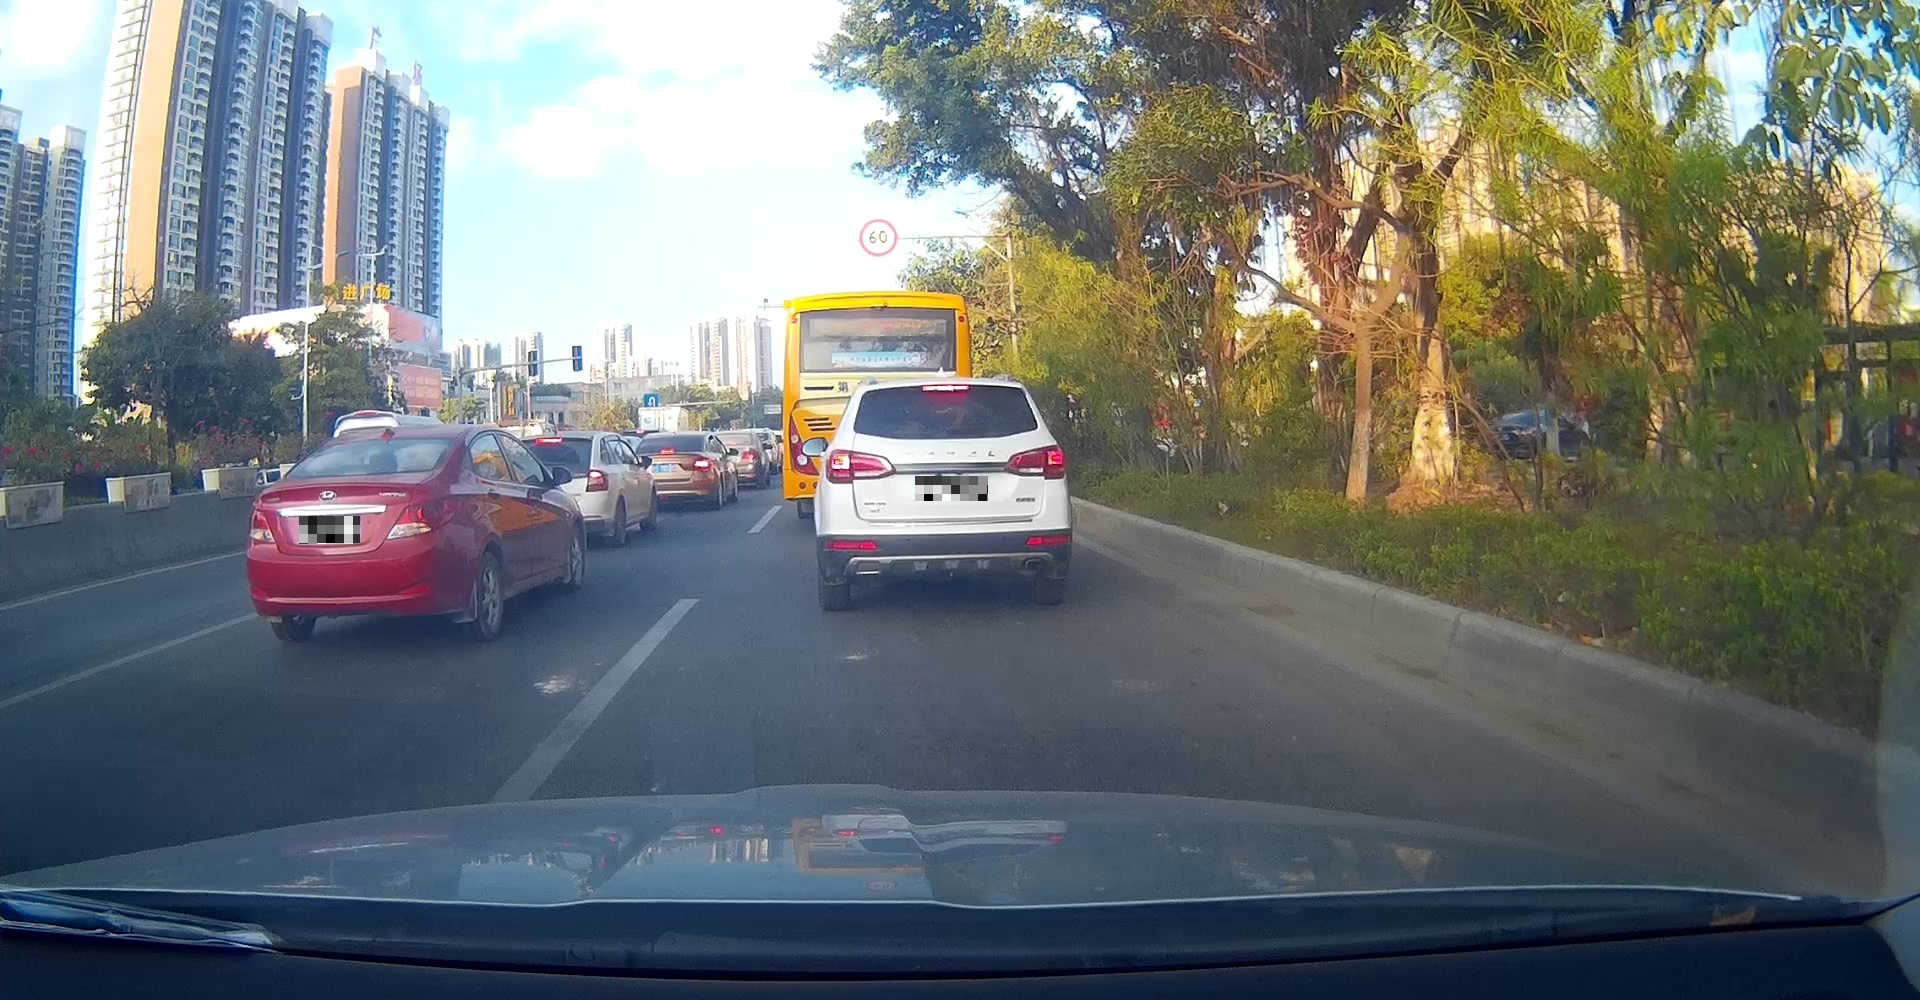L_light: (824, 449, 895, 484), (248, 508, 277, 549)
R_light: (386, 497, 462, 541), (1004, 443, 1065, 478)
T_light: (922, 385, 969, 391), (339, 470, 370, 476)
day-brake: (813, 376, 1070, 610)
day-no: (246, 426, 463, 642)
plate_1: (298, 516, 361, 544)
plate_2: (916, 476, 988, 501)
